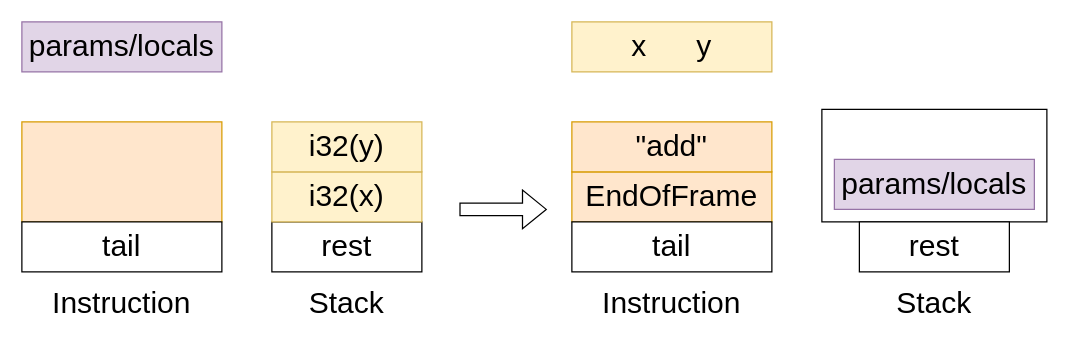
This 1069x344 diagram has some shape labels left out. Each missing label, with the box of its shape:
Call "add": (21, 121, 222, 222)
Func: (821, 108, 1047, 222)
